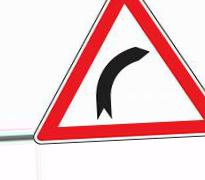right: (33, 1, 205, 143)
